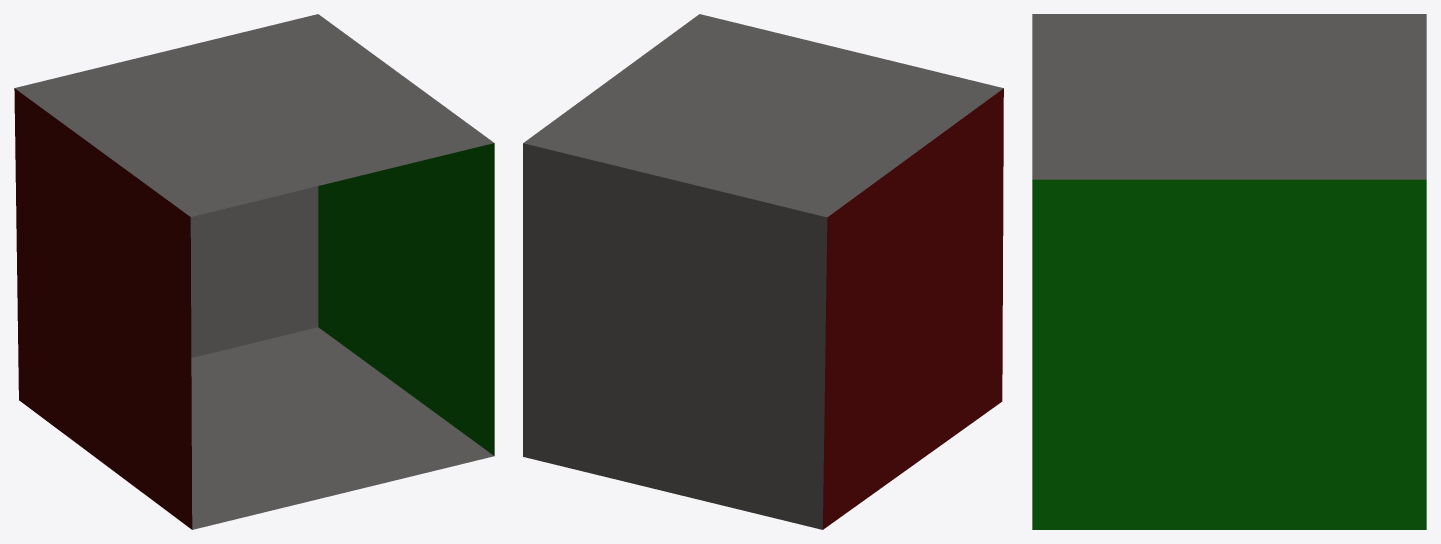
The model's file is cornell-box.fbx.
The picture shows the model from 3 angles, left to right: view 1: azimuth 30°, elevation 25°; view 2: azimuth 150°, elevation 25°; view 3: azimuth 270°, elevation 25°; orthographic projection. The views are drawn at different scales.
Visible parts, largest first — view 1: cornell-box; view 2: cornell-box; view 3: cornell-box.
Boxes of the visible parts, x1,y1,x2,y2 form: cornell-box: (14,14,494,529); cornell-box: (523,14,1003,529); cornell-box: (1032,14,1426,529).
Bounding box in the file's own units: 202 × 199 × 203.
